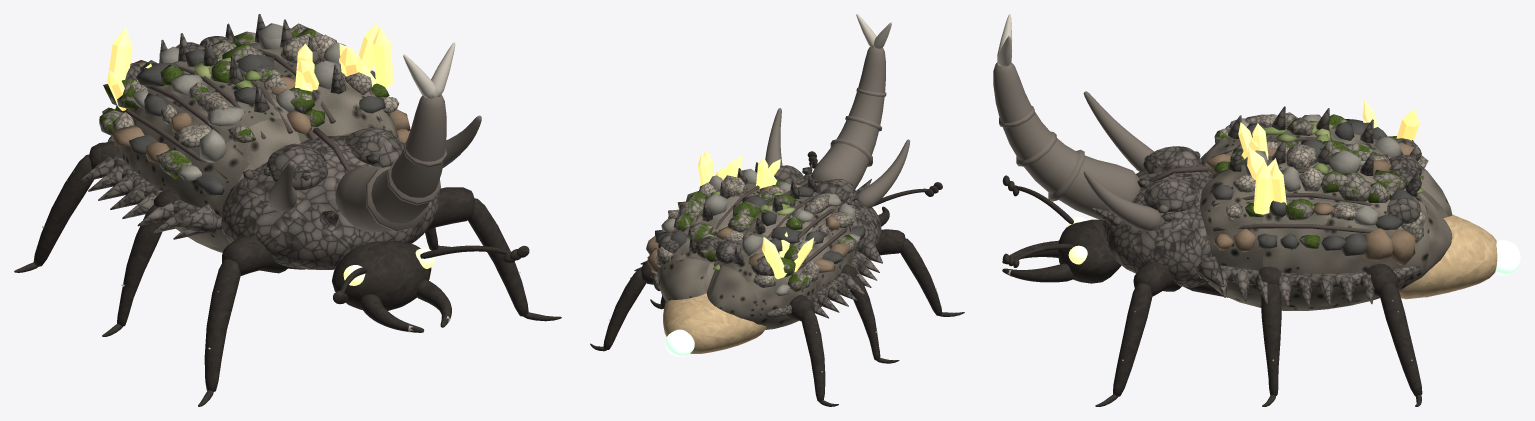
Rendered from great_rock_beetle_v3.glb.
The picture shows the model from 3 angles, left to right: view 1: azimuth 30°, elevation 25°; view 2: azimuth 150°, elevation 25°; view 3: azimuth 270°, elevation 25°; orthographic projection. The views are drawn at different scales.
Parts seen in each view (by area): view 1: body, leg_l0, leg_r0, leg_l2, leg_l1; view 2: body, leg_l0, leg_l2, leg_r2, leg_l1; view 3: body, leg_r0, leg_r2, leg_r1.
Boxes of the visible parts, x1,y1,x2,y2 form: body: [72, 14, 529, 332]; leg_l0: [198, 236, 289, 406]; leg_r0: [426, 187, 561, 321]; leg_l2: [14, 142, 122, 272]; leg_l1: [102, 189, 181, 336]; body: [630, 14, 942, 356]; leg_l0: [876, 229, 964, 316]; leg_l2: [787, 294, 838, 406]; leg_r2: [590, 262, 654, 351]; leg_l1: [841, 264, 899, 363]; body: [993, 14, 1520, 310]; leg_r0: [1095, 262, 1181, 406]; leg_r2: [1365, 263, 1422, 406]; leg_r1: [1255, 266, 1281, 406].
Size of the model in its own units: 1.16 by 1.08 by 1.68.
Materials: 17 (9 with a texture image).
